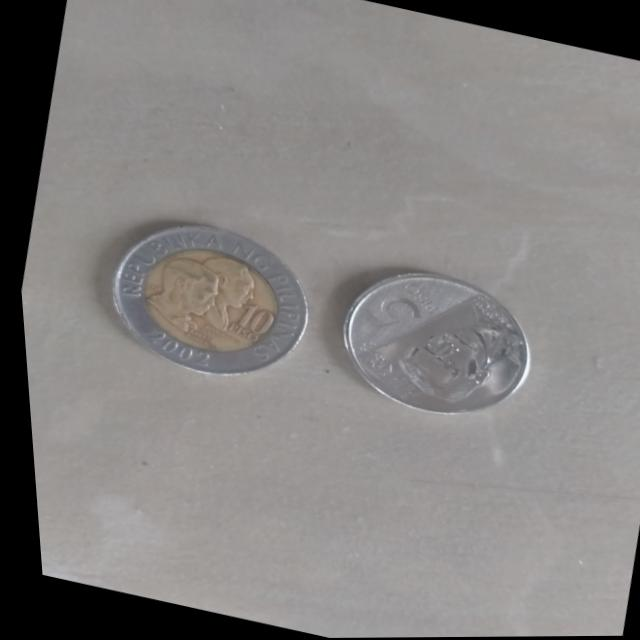10_Old_Front: (94, 211, 314, 389)
5_New_Front: (322, 258, 537, 430)
